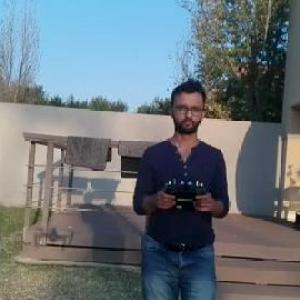follow: (126, 71, 234, 299)
